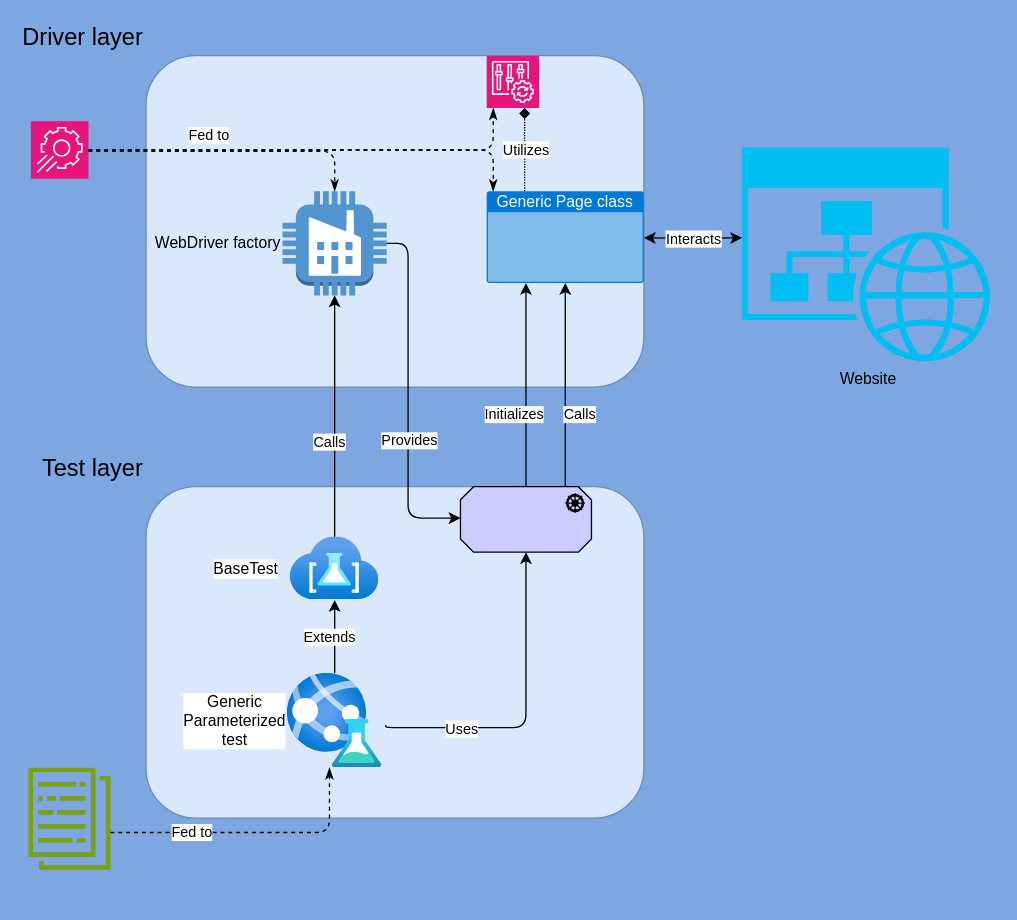
The diagram is 1017 pixels wide and 920 high, and some of its shapes have lost their labels. Each missing label, with the box of its shape:
Config: (29, 120, 88, 179)
Driver Wait configuration: (485, 54, 539, 108)
Test data: (28, 767, 110, 869)
WebDriver Instance: (459, 485, 591, 552)
